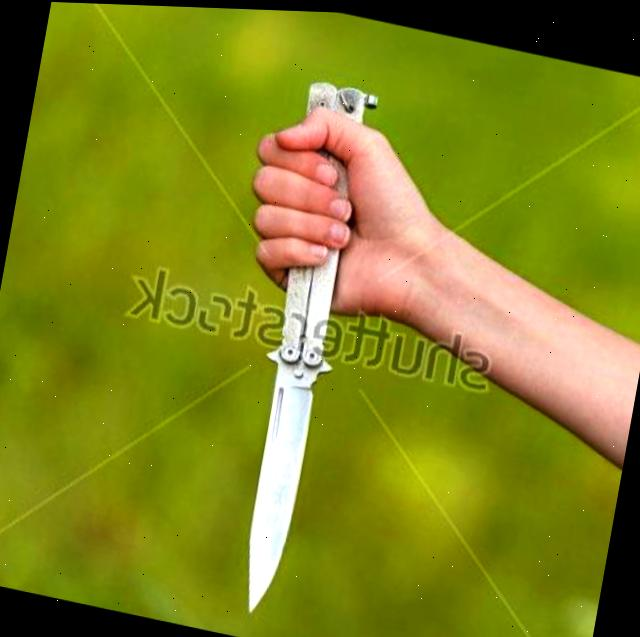pocket-knife: (175, 110, 403, 634)
